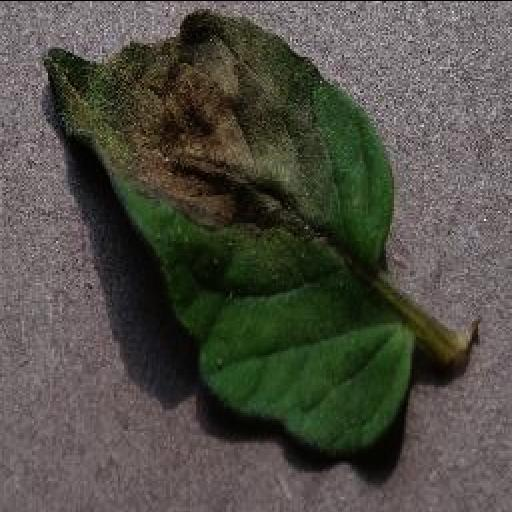disease_tomato: (40, 10, 412, 454)
